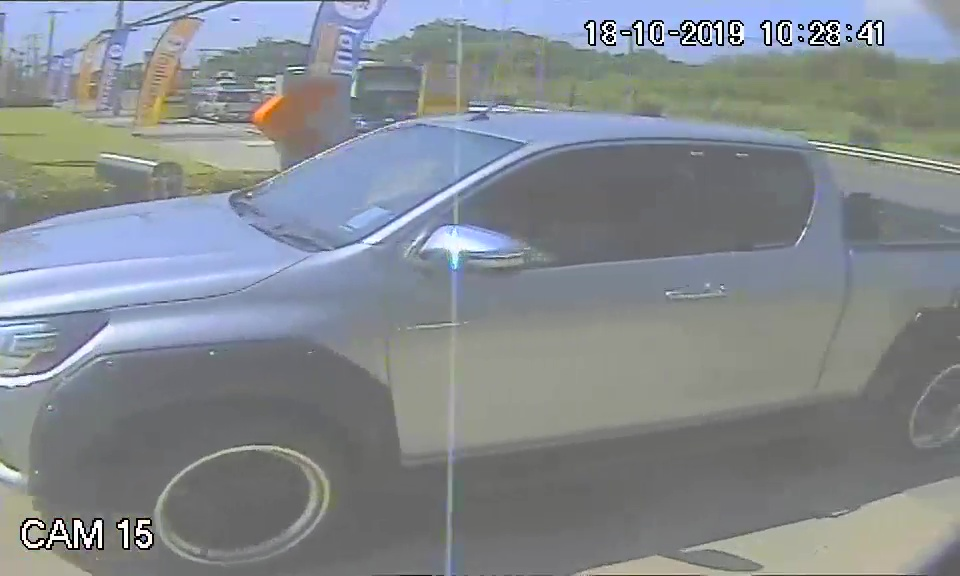pickup: (1, 113, 960, 498)
